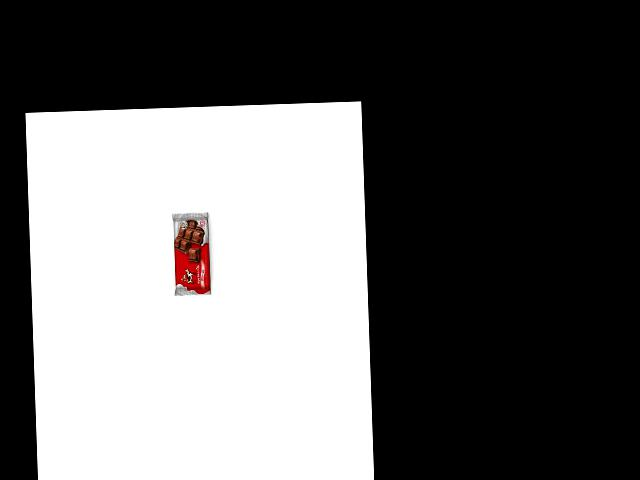chocolate: (171, 209, 211, 296)
